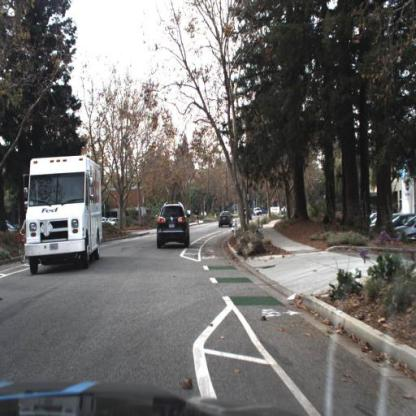biker: (195, 208, 201, 226)
car: (155, 202, 192, 252), (219, 210, 234, 230), (243, 208, 252, 221), (253, 207, 264, 217), (111, 217, 119, 227)
truck: (24, 154, 105, 280)
